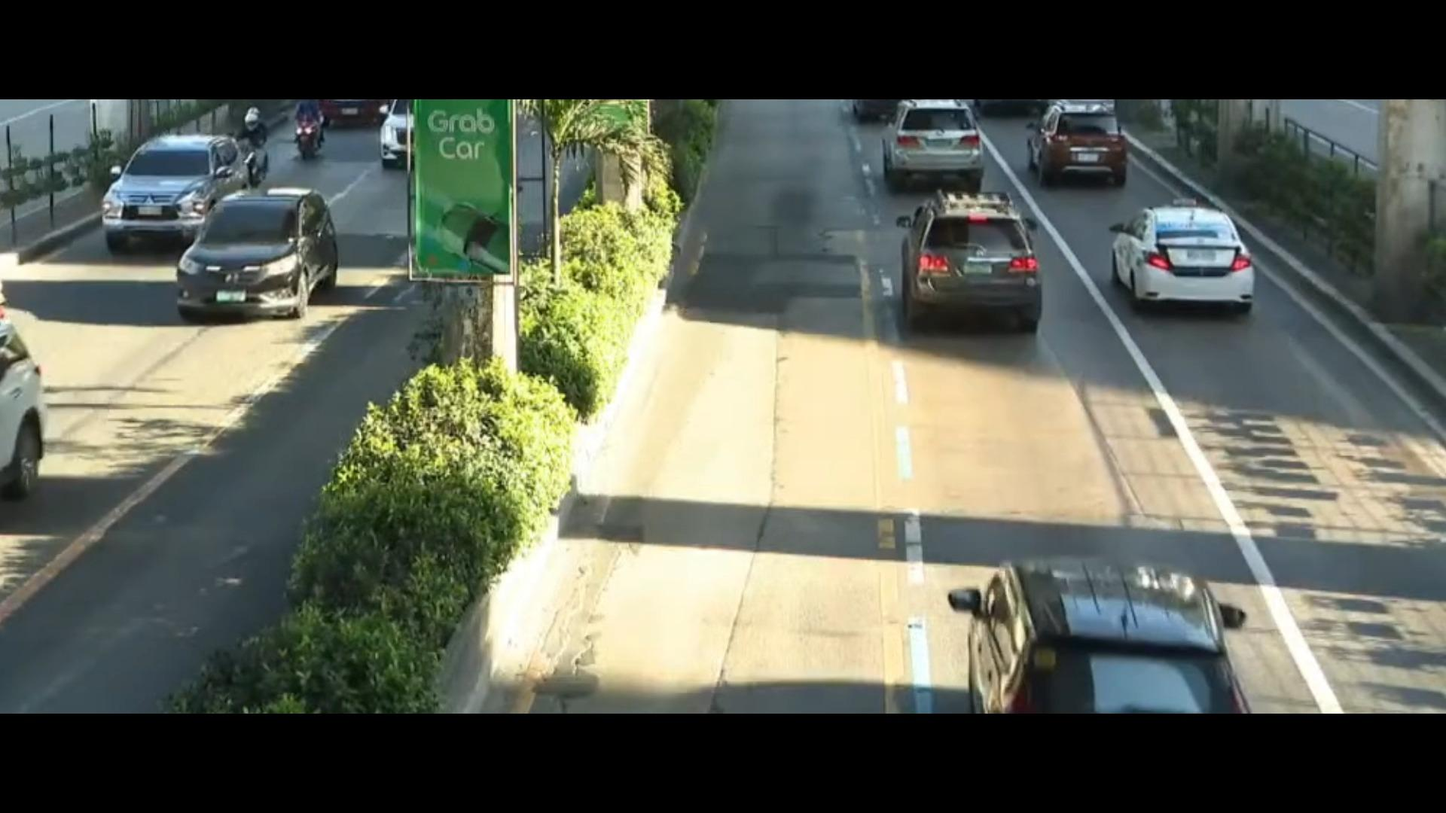Motorcycle: (283, 102, 336, 161)
SUV: (883, 480, 1256, 718), (137, 181, 358, 336), (875, 177, 1064, 354), (82, 119, 260, 258), (872, 89, 985, 196), (1024, 98, 1124, 191)
Sedan: (1102, 187, 1269, 321)
